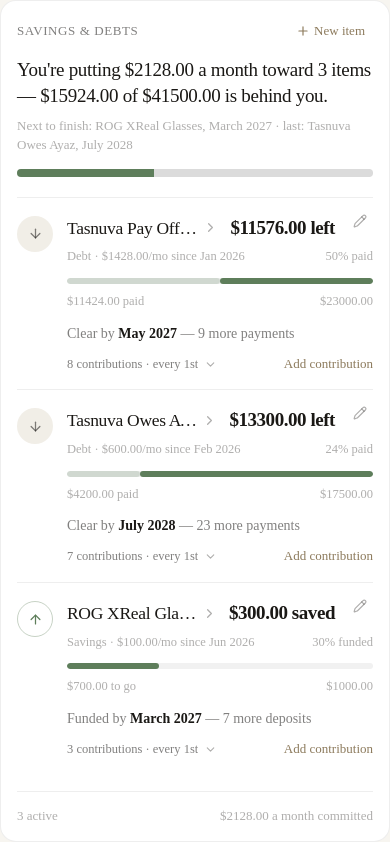
Test: Savings & Debts section — one ledger open at a time › opens a card ledger in place
Click the button with test id "sd-disclosure" at (142, 557), box x1=67 y1=543 x2=217 y2=570
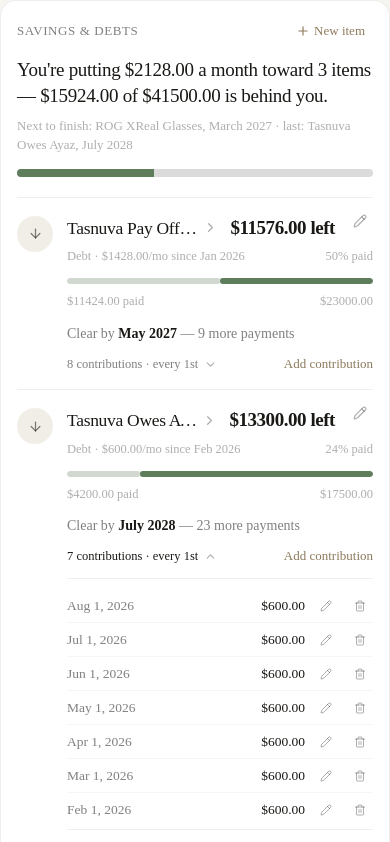
Expected: the list item with test id "ledger-row" showing "Aug 1, 2026 $600.00" is shown, x1=67 y1=589 x2=373 y2=623
